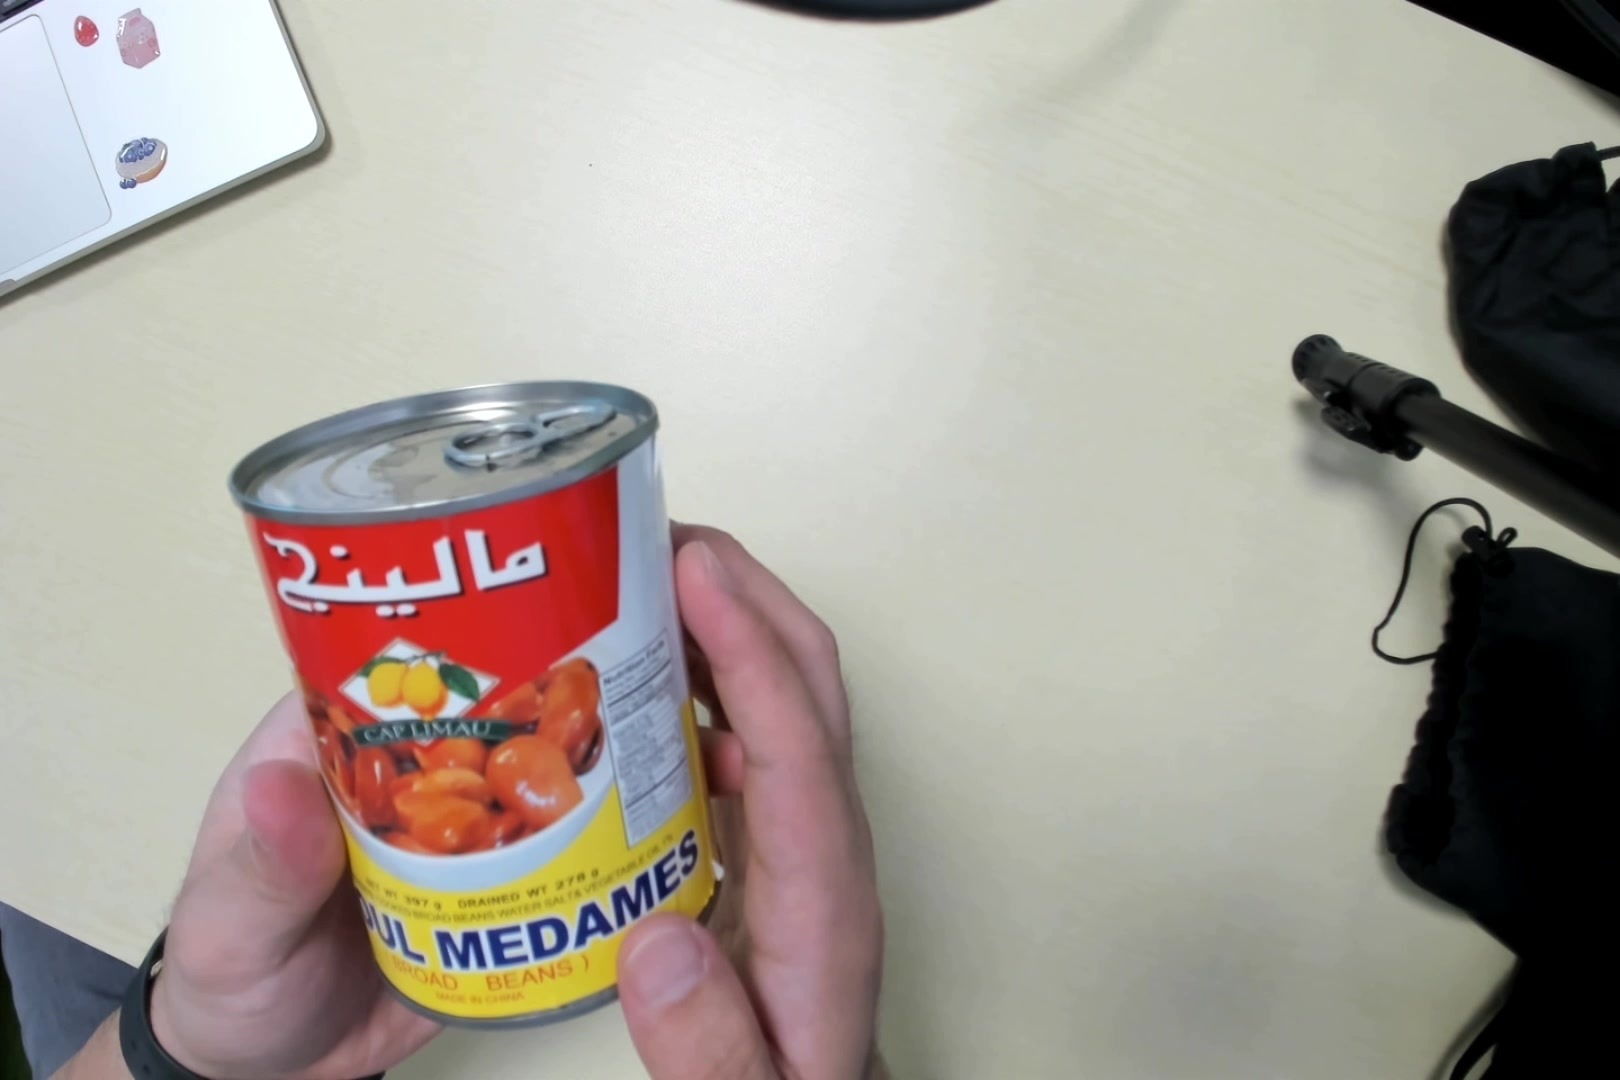OtherCannedBeansPeasPeanuts_400-499g_Halal_NonHealthy: (231, 368, 720, 1029)
